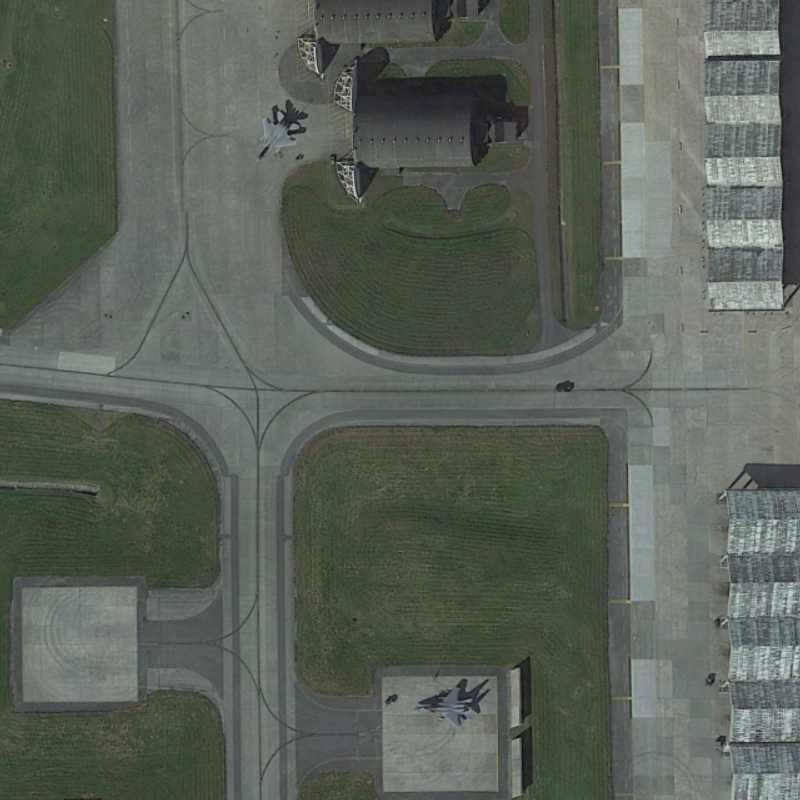A13: (409, 683, 480, 730), (251, 109, 303, 163)
